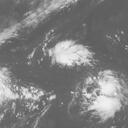cyclone: (45, 39, 95, 70)
